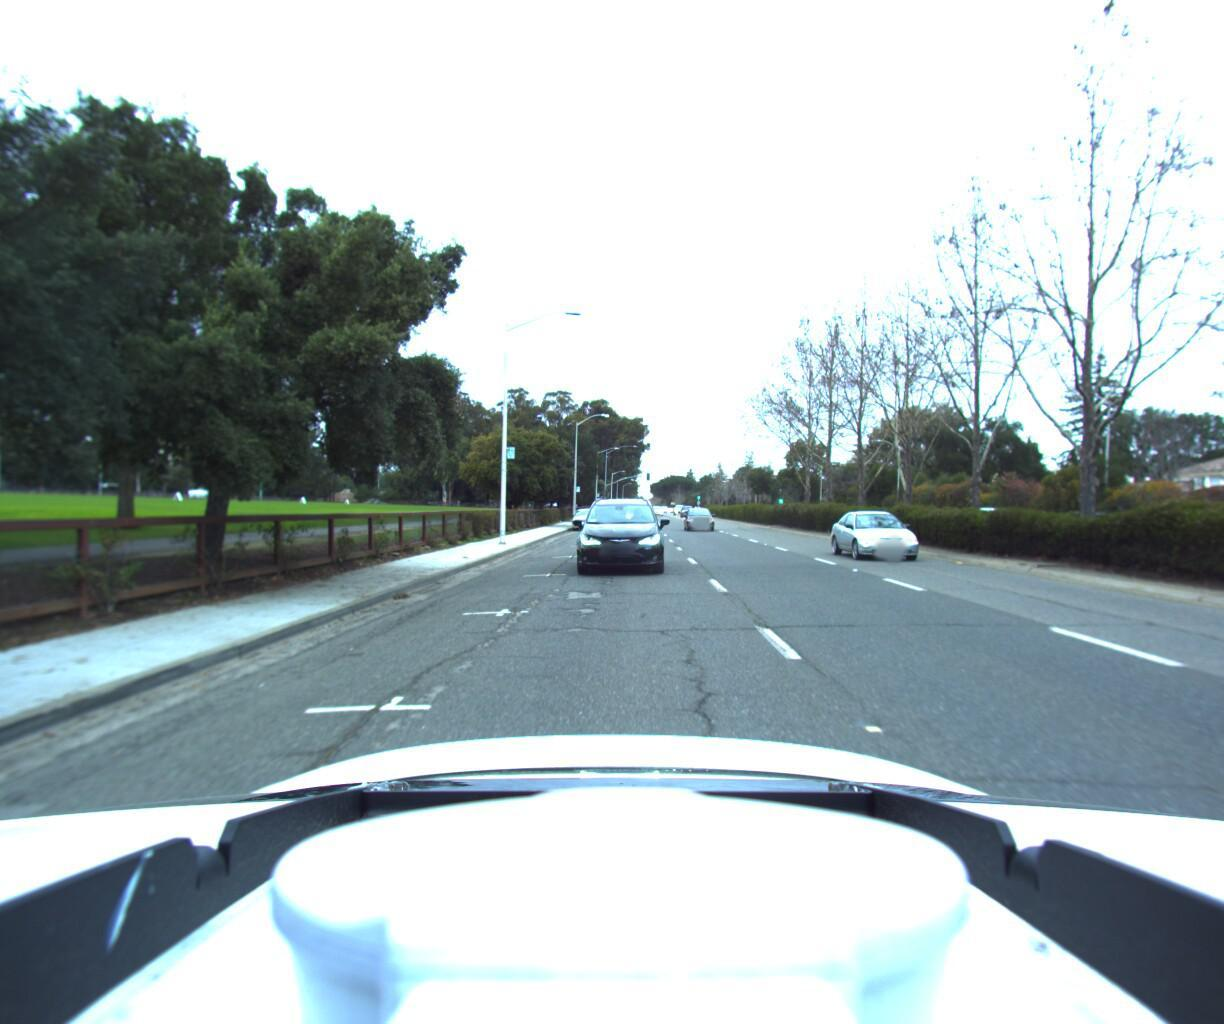car: (574, 494, 661, 575), (838, 508, 952, 565), (683, 504, 719, 531), (568, 505, 599, 528)
